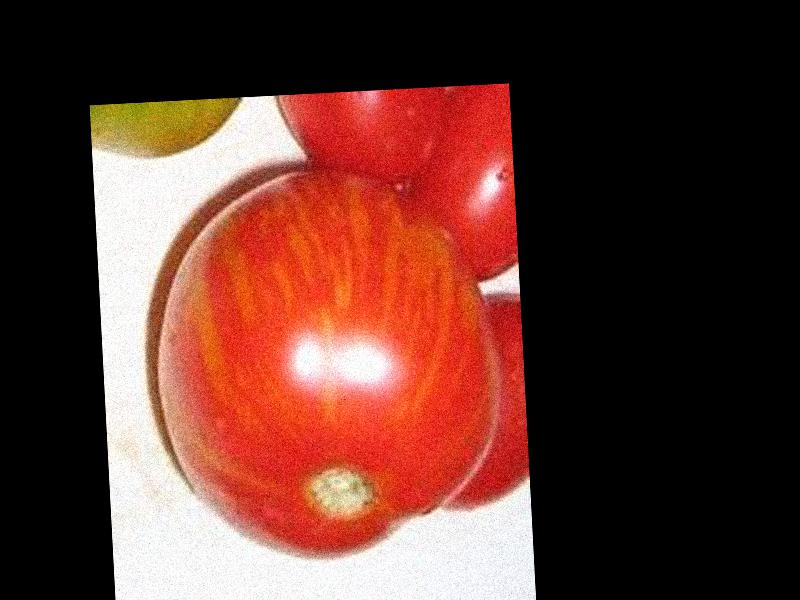Tomato: (147, 157, 510, 572)
